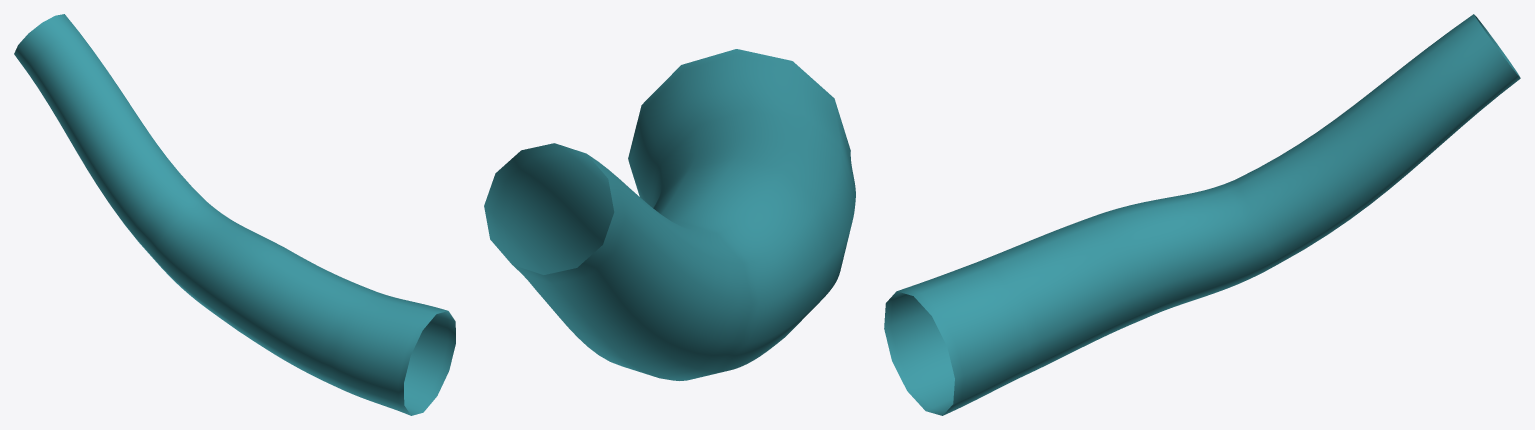
The picture shows the model from 3 angles, left to right: view 1: azimuth 30°, elevation 25°; view 2: azimuth 150°, elevation 25°; view 3: azimuth 270°, elevation 25°; orthographic projection. The views are drawn at different scales.
Parts seen in each view (by area): view 1: 右肺下叶支气管; view 2: 右肺下叶支气管; view 3: 右肺下叶支气管.
Part boxes in pixels (x1,y1,x2,y2): 右肺下叶支气管: (14,14,455,415); 右肺下叶支气管: (484,49,855,380); 右肺下叶支气管: (884,14,1520,415).
Size of the model in its own units: 0.046 by 0.0534 by 0.0987.
